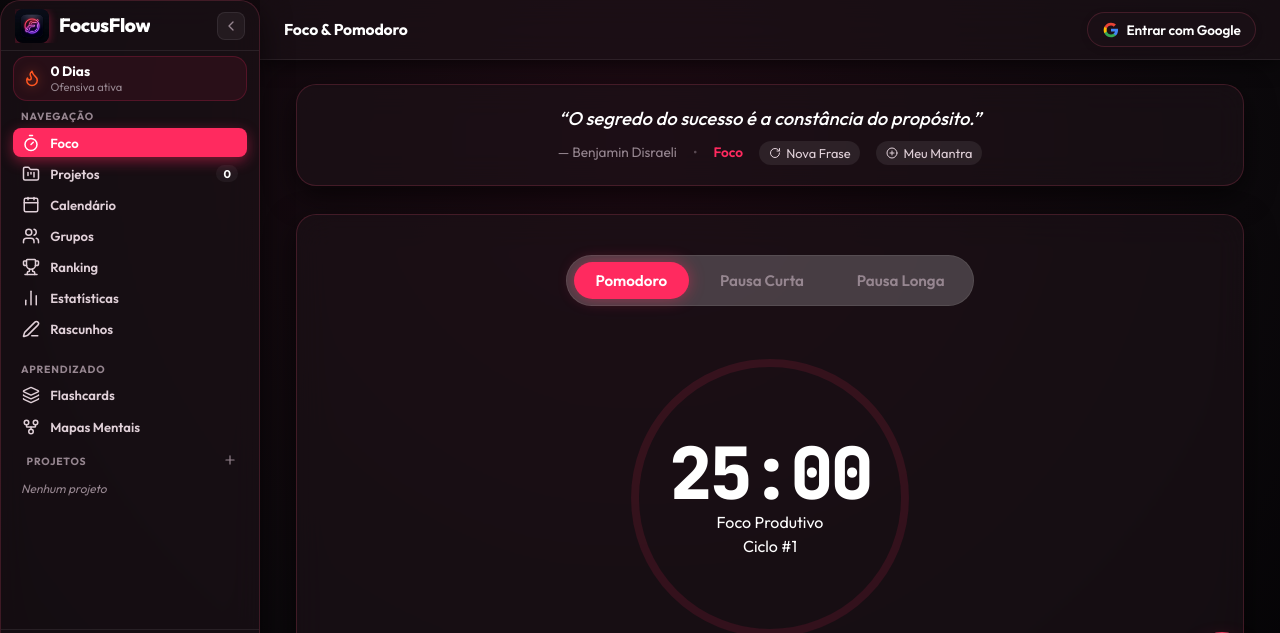
it: Barra Lateral Moderna (Sidebar) › deve navegar entre as telas através dos itens da sidebar
# Clica em "Projetos" na sidebar
What coordinates should you click on to do the following:
click the button "Projetos 0"
I would click on:
 (130, 174)
Its box is x1=13 y1=159 x2=247 y2=188.
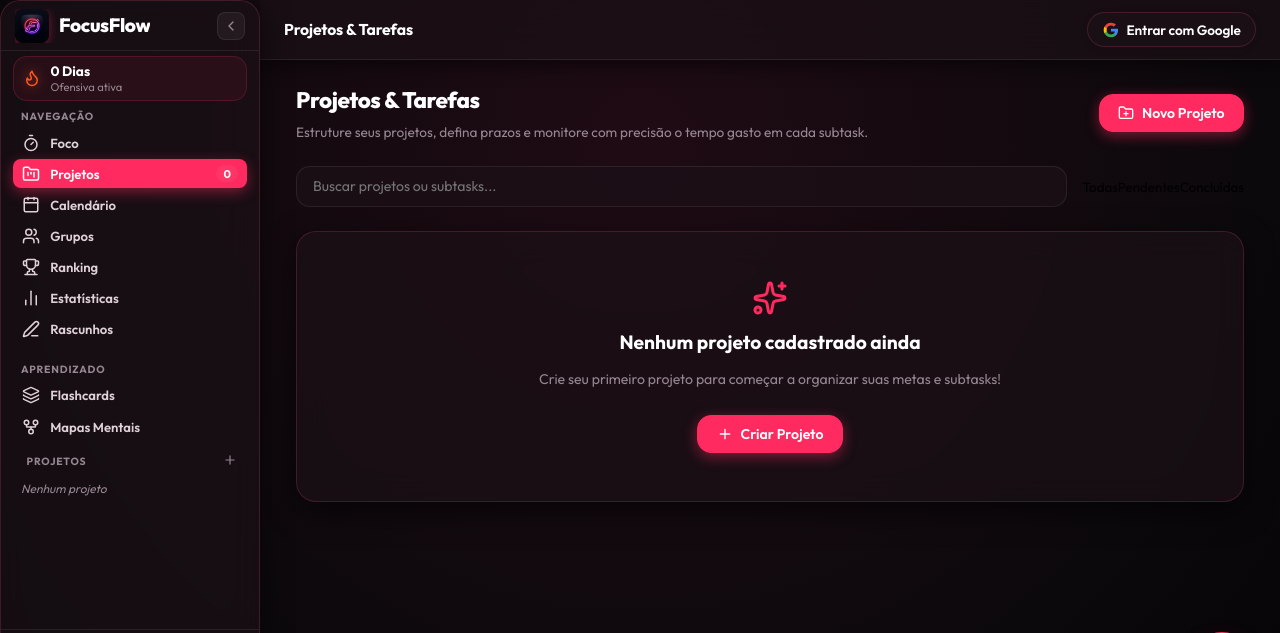
Now the heading "Projetos & Tarefas" is shown, box x1=296 y1=86 x2=480 y2=114
# Clica em "Calendário" na sidebar
What coordinates should you click on to do the following:
click the button "Calendário"
I would click on:
 (130, 205)
Its box is x1=13 y1=190 x2=247 y2=219.
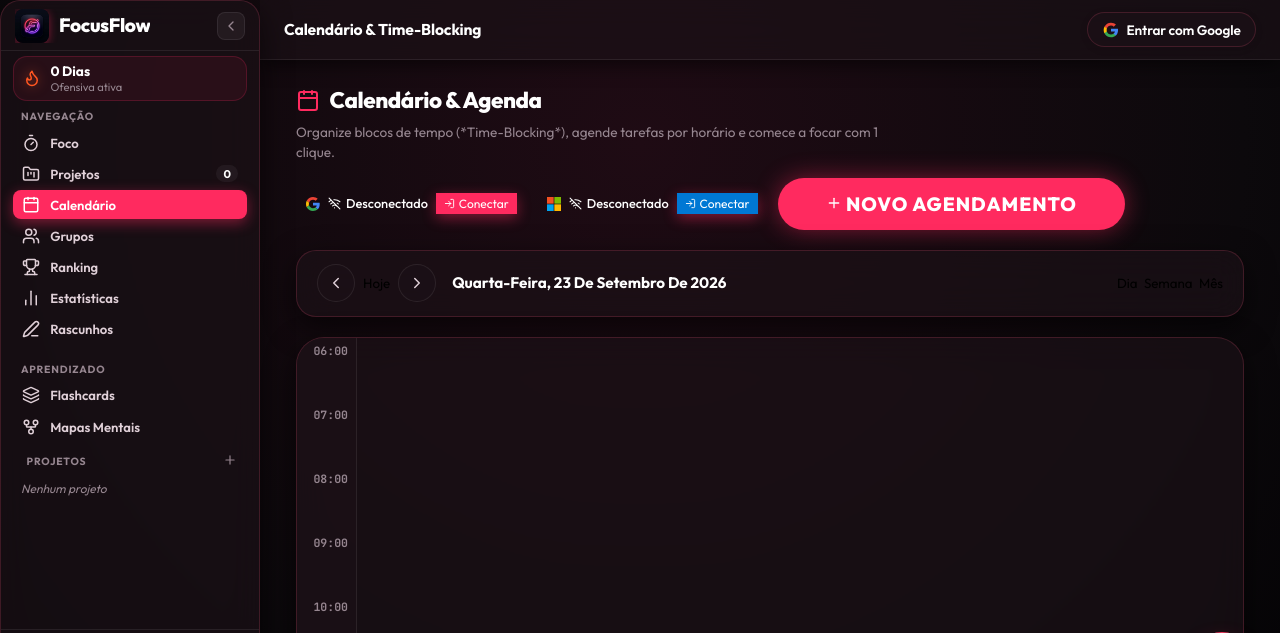
Now the heading "Calendário & Agenda" is shown, box x1=296 y1=86 x2=542 y2=114
# Clica em "Foco" na sidebar
What coordinates should you click on to do the following:
click the button "Foco"
I would click on:
 (130, 143)
Its box is x1=13 y1=128 x2=247 y2=157.
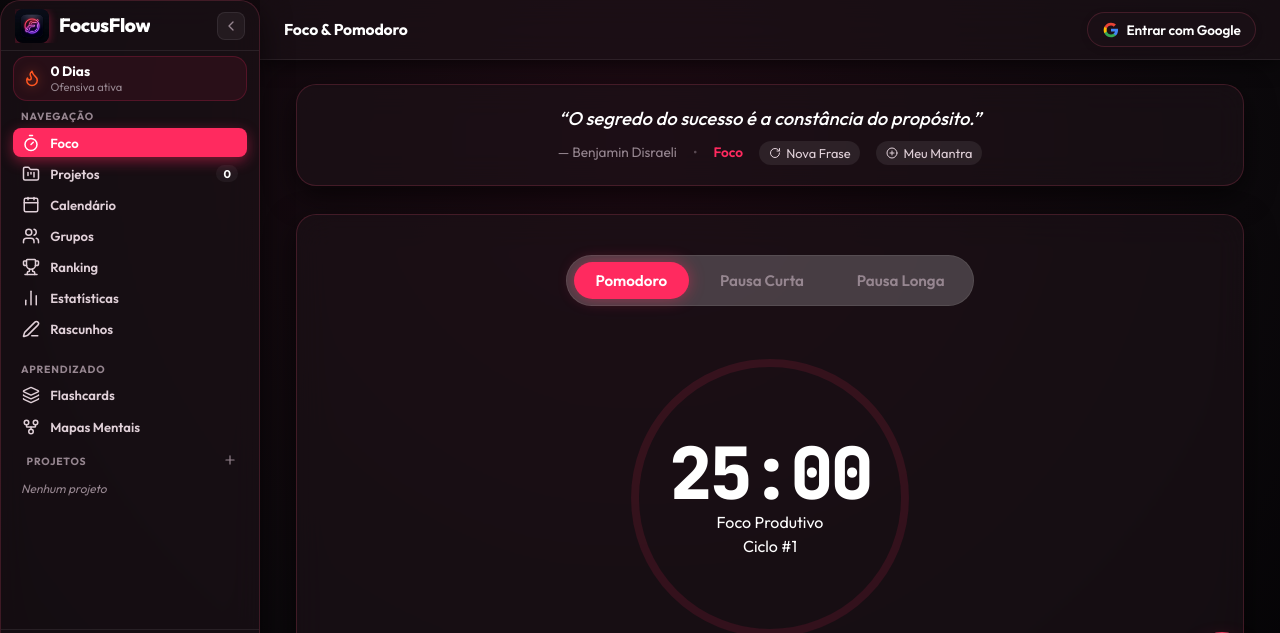
Now the text "25:00" is shown, box x1=669 y1=438 x2=871 y2=510
